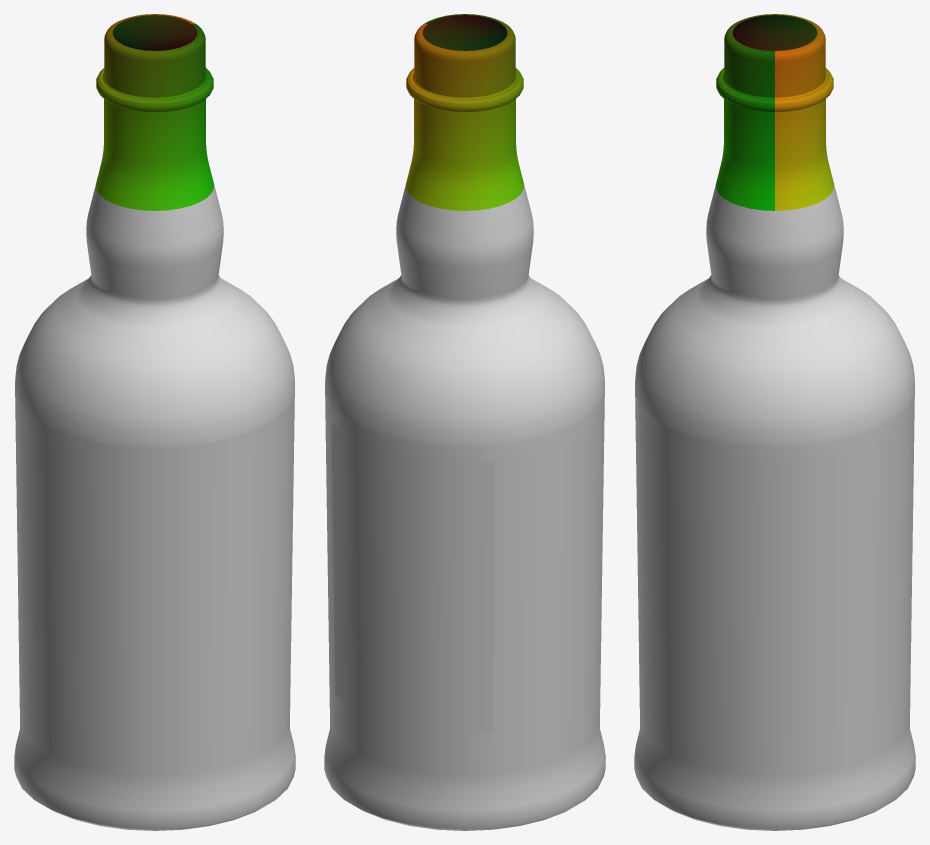
File: Balvenie 百富.FBX
The picture shows the model from 3 angles, left to right: view 1: azimuth 30°, elevation 25°; view 2: azimuth 150°, elevation 25°; view 3: azimuth 270°, elevation 25°; orthographic projection.
Parts seen in each view (by area): view 1: Cylinder005; view 2: Cylinder005; view 3: Cylinder005.
Part boxes in pixels (x1=…): Cylinder005: x1=14, y1=14, x2=295, y2=830; Cylinder005: x1=324, y1=14, x2=605, y2=830; Cylinder005: x1=634, y1=14, x2=915, y2=830.
Size of the model in its own units: 5.42 by 15.66 by 5.39.
